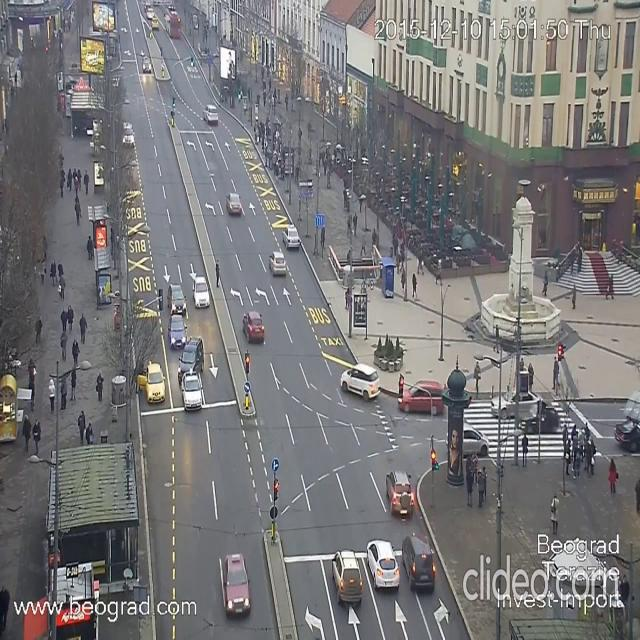bus: (167, 11, 181, 37)
car: (219, 553, 251, 617), (402, 532, 436, 592), (332, 549, 362, 607), (366, 539, 400, 590), (399, 377, 449, 411), (340, 363, 380, 401), (450, 422, 488, 461), (386, 469, 414, 518), (493, 387, 542, 414), (179, 342, 205, 380), (518, 409, 562, 431), (242, 310, 264, 344), (144, 367, 166, 401), (182, 376, 202, 409), (616, 420, 640, 446), (168, 315, 186, 345), (170, 281, 186, 313), (193, 276, 209, 306), (268, 250, 286, 276), (284, 224, 298, 252), (226, 192, 242, 214), (202, 104, 218, 124), (122, 121, 134, 147), (142, 55, 152, 74), (151, 18, 159, 28), (148, 10, 154, 18)
